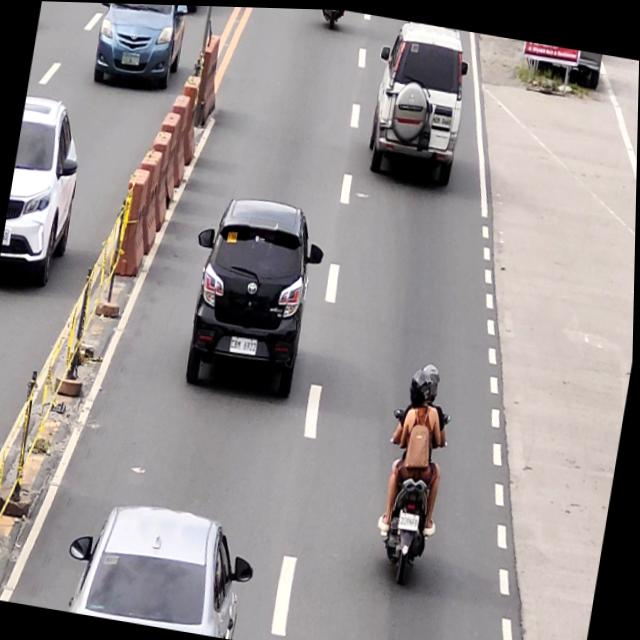Car: (179, 189, 331, 401), (60, 489, 263, 640), (361, 14, 476, 188)
License-Plate: (229, 331, 261, 355), (400, 508, 423, 531), (430, 110, 454, 127)
Motorcycle: (371, 399, 453, 584)
